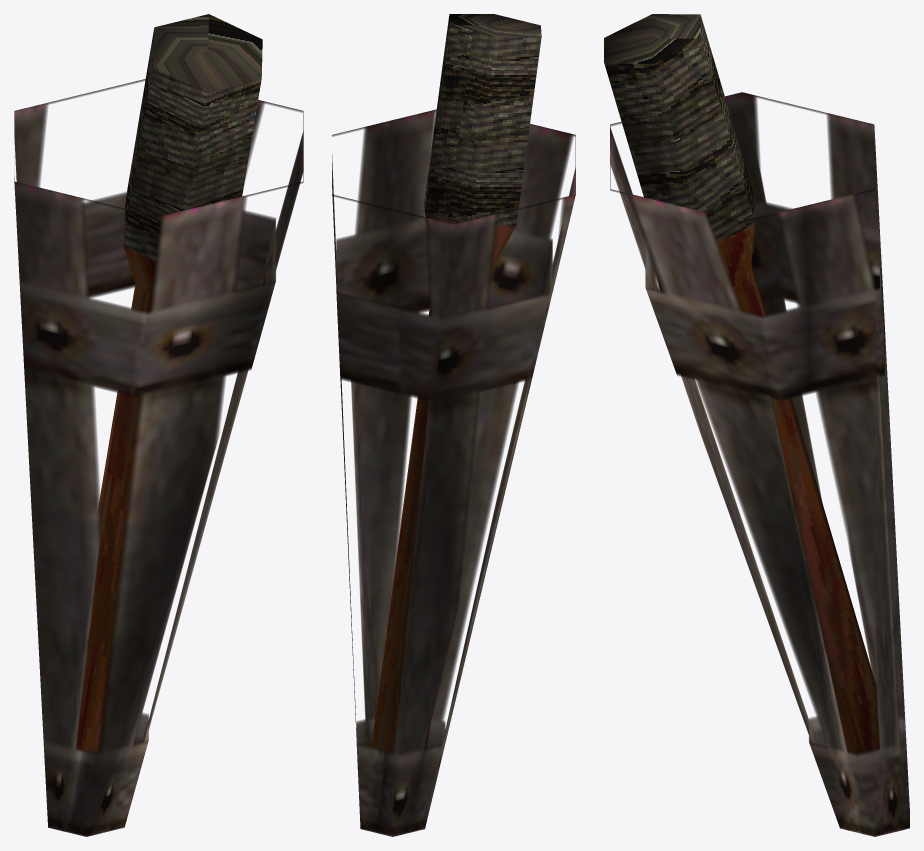
File: ub_FACKEL_MIT_HALTER.glb
3 views of the same model, side by side, from view 1: azimuth 30°, elevation 25°; view 2: azimuth 150°, elevation 25°; view 3: azimuth 270°, elevation 25° (orthographic). The views are drawn at different scales.
Bounding box in the file's own units: 12.31 × 35.29 × 12.34.
3 materials, 3 textured.
